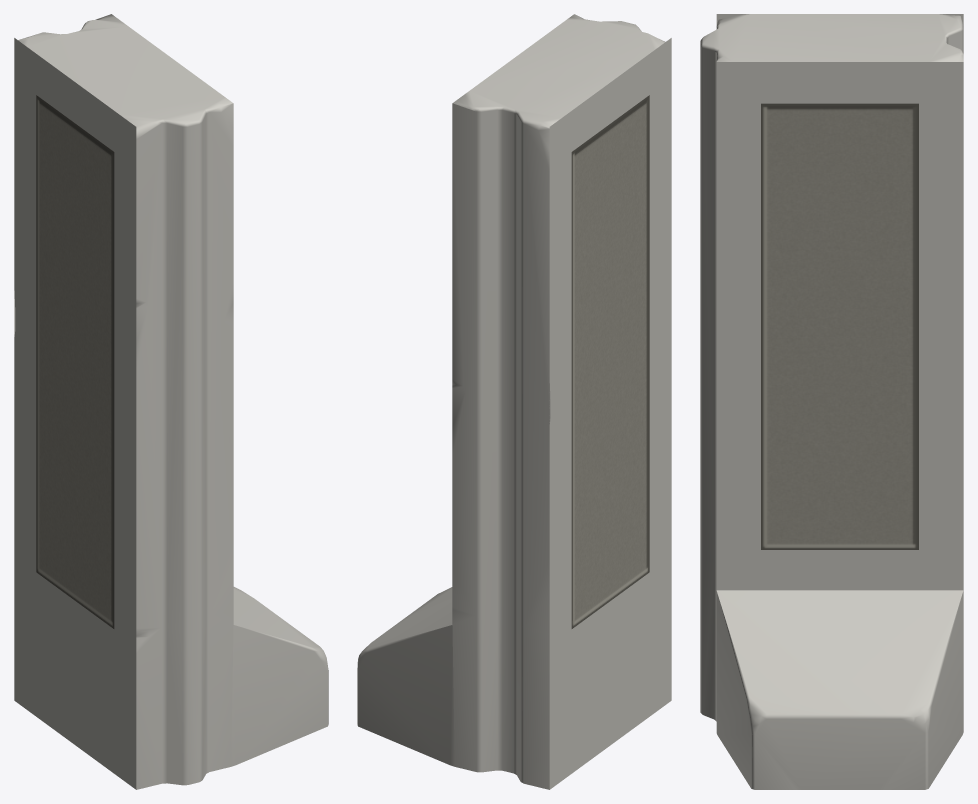
The model's file is bremer.glb.
3 renders of one model, left to right at view 1: azimuth 30°, elevation 25°; view 2: azimuth 150°, elevation 25°; view 3: azimuth 270°, elevation 25°, orthographic.
Visible parts, largest first — view 1: SM_BremerWall_Stage5_Nanite; view 2: SM_BremerWall_Stage5_Nanite; view 3: SM_BremerWall_Stage5_Nanite.
Boxes of the visible parts, x1,y1,x2,y2 form: SM_BremerWall_Stage5_Nanite: (14, 14, 328, 789); SM_BremerWall_Stage5_Nanite: (357, 14, 671, 789); SM_BremerWall_Stage5_Nanite: (700, 14, 963, 789).
Size of the model in its own units: 1.5 by 4.5 by 1.6.
Materials: 2 (1 with a texture image).
